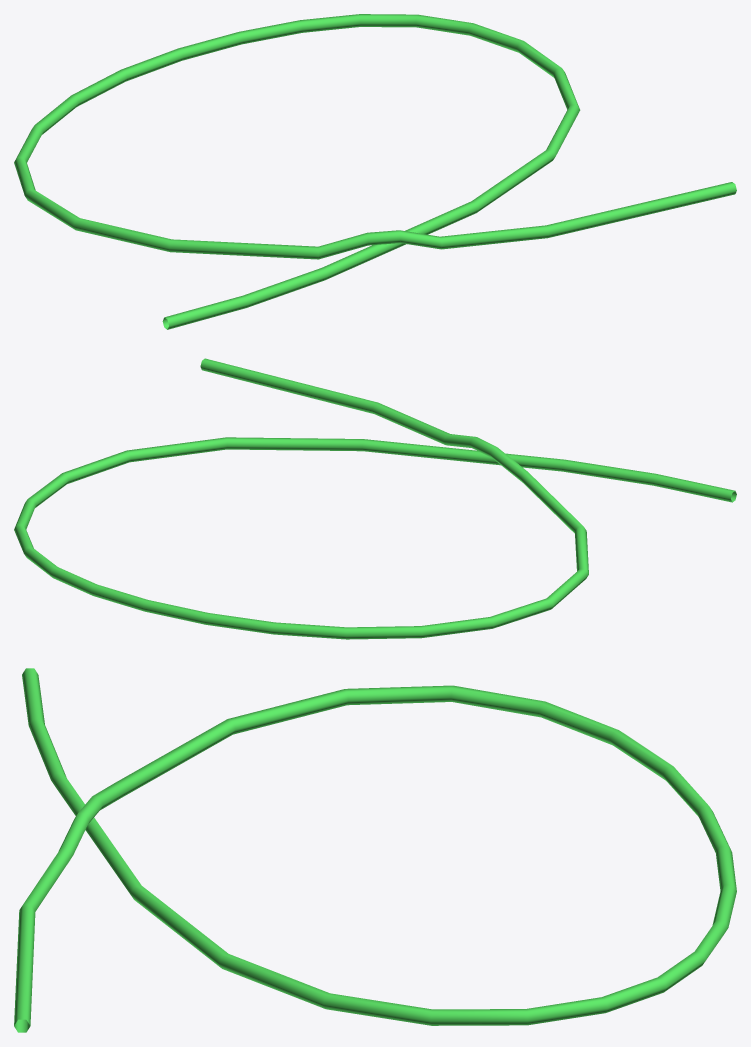
The model's file is Wire_02_E.fbx.
3 renders of one model, top to bottom at view 1: azimuth 30°, elevation 25°; view 2: azimuth 150°, elevation 25°; view 3: azimuth 270°, elevation 25°, orthographic. The views are drawn at different scales.
Visible parts, largest first — view 1: Wire_02_E; view 2: Wire_02_E; view 3: Wire_02_E.
Part boxes in pixels (x1,y1,x2,y2): Wire_02_E: (14, 14, 736, 329); Wire_02_E: (14, 358, 736, 639); Wire_02_E: (14, 668, 736, 1032).
Bounding box in the file's own units: 128 × 4.38 × 111.
